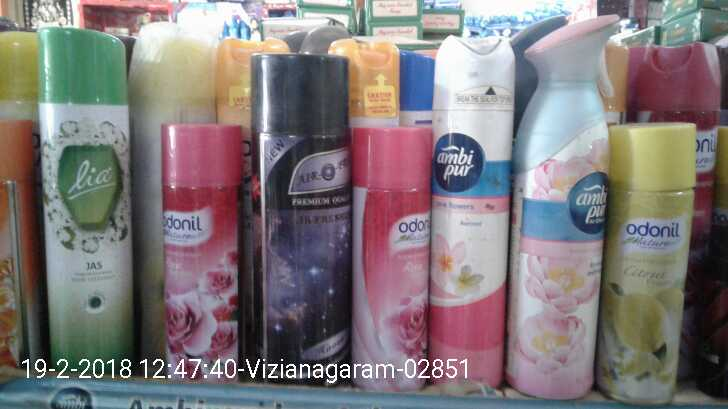ambipure: (511, 15, 611, 397), (435, 28, 514, 393)
